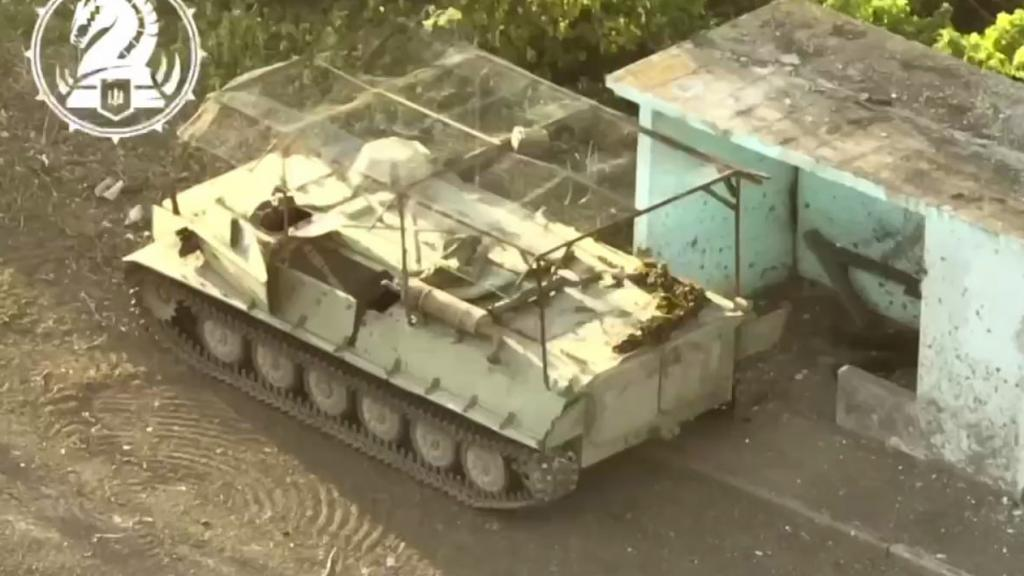APC-IFV: (118, 42, 739, 507)
